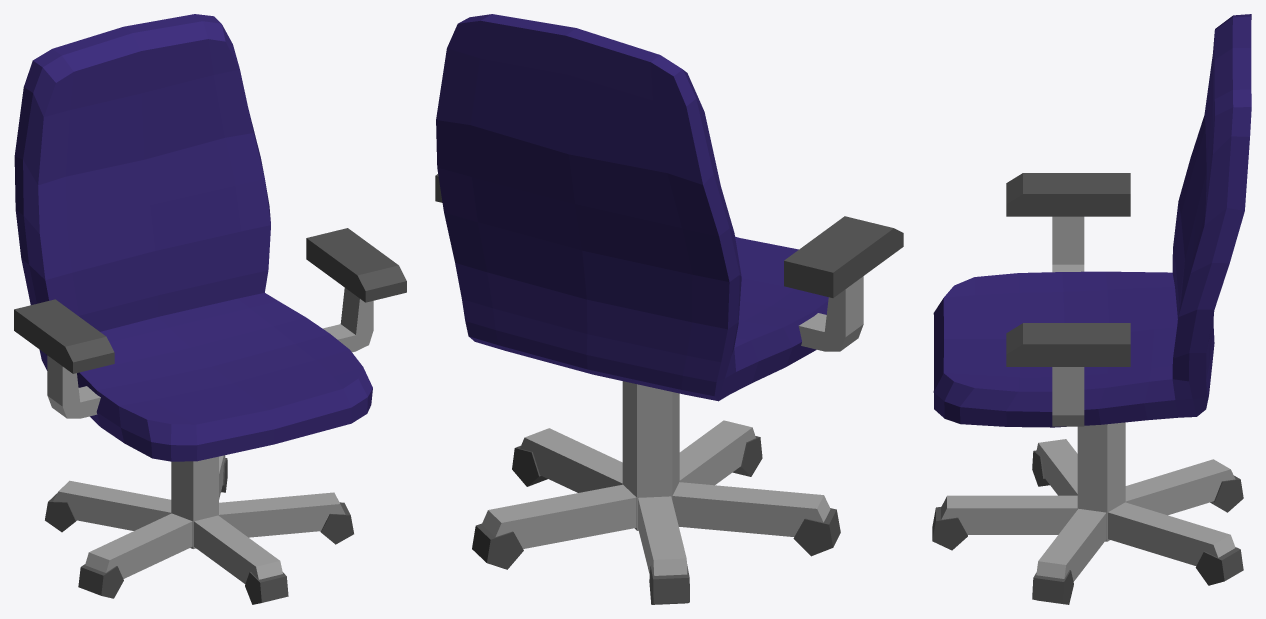
File: chair.fbx
3 renders of one model, left to right at view 1: azimuth 30°, elevation 25°; view 2: azimuth 150°, elevation 25°; view 3: azimuth 270°, elevation 25°, orthographic. The views are drawn at different scales.
Parts seen in each view (by area): view 1: Cube.006, Cube.007, Cube.005, Cube.008, Cube.003, Cube.002, Cube.001, Cylinder, Cylinder.002, Cylinder.001, Cylinder.005, Cylinder.003; view 2: Cube.006, Cube.003, Cylinder, Cube.004, Cube.007, Cube.005, Cube.001, Cube.002, Cube.008, Cylinder.004, Cylinder.002, Cylinder.003 (+2 smaller); view 3: Cube.006, Cube.007, Cube.001, Cube.004, Cylinder, Cube.008, Cube.002, Cube.005, Cube.003, Cylinder.004, Cylinder.005, Cylinder.001 (+1 smaller).
Part boxes in pixels (bbox=[...]): Cube.006: bbox=[14, 14, 372, 461]; Cube.007: bbox=[14, 228, 406, 373]; Cube.005: bbox=[219, 492, 345, 537]; Cube.008: bbox=[47, 288, 373, 418]; Cube.003: bbox=[85, 513, 192, 578]; Cube.002: bbox=[53, 480, 171, 530]; Cube.001: bbox=[194, 515, 282, 583]; Cylinder: bbox=[171, 456, 218, 548]; Cylinder.002: bbox=[78, 564, 123, 598]; Cylinder.001: bbox=[245, 572, 288, 604]; Cylinder.005: bbox=[320, 502, 353, 544]; Cylinder.003: bbox=[45, 493, 76, 532]; Cube.006: bbox=[436, 14, 828, 401]; Cube.003: bbox=[672, 482, 830, 536]; Cylinder: bbox=[622, 381, 679, 530]; Cube.004: bbox=[482, 484, 636, 548]; Cube.007: bbox=[435, 174, 903, 297]; Cube.005: bbox=[520, 428, 622, 492]; Cube.001: bbox=[679, 420, 755, 485]; Cube.002: bbox=[638, 496, 687, 575]; Cube.008: bbox=[798, 276, 863, 351]; Cylinder.004: bbox=[472, 523, 523, 569]; Cylinder.002: bbox=[793, 508, 840, 556]; Cylinder.003: bbox=[649, 564, 689, 604]; Cube.006: bbox=[933, 14, 1251, 427]; Cube.007: bbox=[1006, 173, 1130, 366]; Cube.001: bbox=[941, 495, 1077, 534]; Cube.004: bbox=[1108, 502, 1235, 565]; Cylinder: bbox=[1077, 422, 1125, 541]; Cube.008: bbox=[1052, 216, 1084, 426]; Cube.002: bbox=[1125, 459, 1235, 515]; Cube.005: bbox=[1036, 508, 1106, 581]; Cube.003: bbox=[1036, 439, 1077, 495]; Cylinder.004: bbox=[1195, 547, 1243, 585]; Cylinder.005: bbox=[1032, 570, 1073, 604]; Cylinder.001: bbox=[932, 507, 967, 550].
Bounding box in the file's own units: 268 × 362 × 211.
